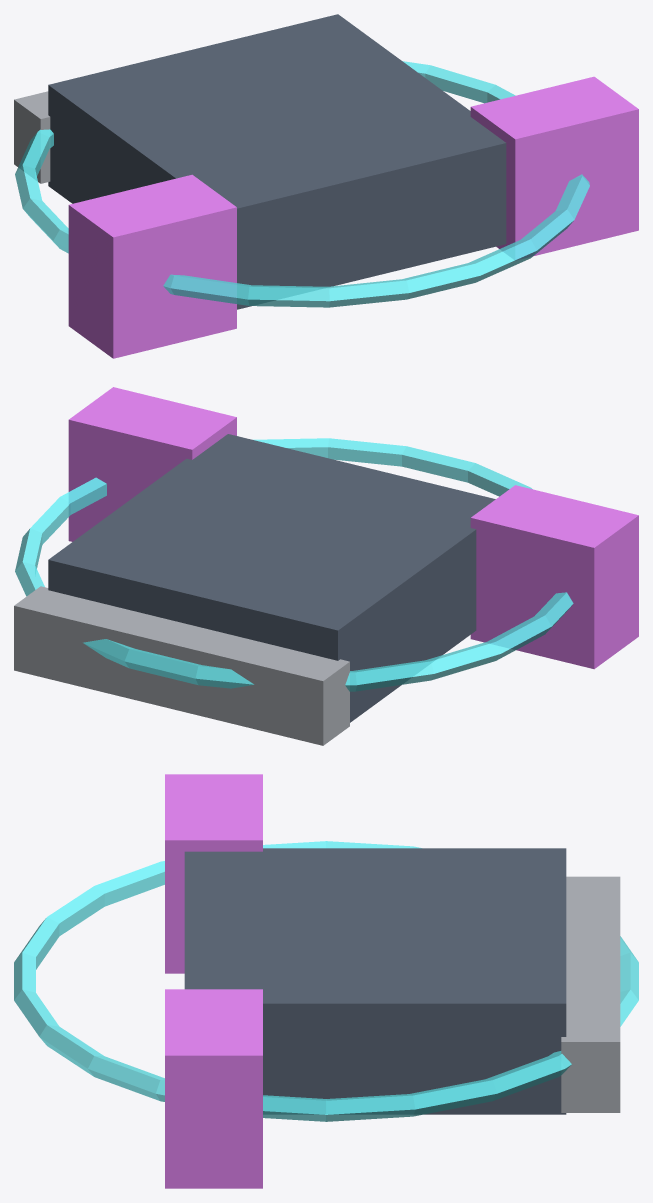
File: 04_magic_armor_upgrade.glb
The picture shows the model from 3 angles, top to bottom: view 1: azimuth 30°, elevation 25°; view 2: azimuth 150°, elevation 25°; view 3: azimuth 270°, elevation 25°; orthographic projection. The views are drawn at different scales.
Visible parts, largest first — view 1: chest_plate, pauldron_l, pauldron_r, warding_aura, waist_guard; view 2: chest_plate, waist_guard, pauldron_l, warding_aura, pauldron_r; view 3: chest_plate, pauldron_r, warding_aura, waist_guard, pauldron_l.
Part boxes in pixels (x1=…): chest_plate: x1=48, y1=14, x2=506, y2=309; pauldron_l: x1=68, y1=174, x2=236, y2=358; pauldron_r: x1=470, y1=76, x2=638, y2=259; warding_aura: x1=15, y1=61, x2=589, y2=307; waist_guard: x1=14, y1=91, x2=50, y2=183; chest_plate: x1=48, y1=434, x2=495, y2=722; waist_guard: x1=14, y1=586, x2=349, y2=745; pauldron_l: x1=470, y1=485, x2=638, y2=669; warding_aura: x1=15, y1=438, x2=573, y2=691; pauldron_r: x1=68, y1=387, x2=236, y2=541; chest_plate: x1=184, y1=848, x2=566, y2=1114; pauldron_r: x1=165, y1=989, x2=262, y2=1188; warding_aura: x1=14, y1=841, x2=638, y2=1121; waist_guard: x1=561, y1=876, x2=620, y2=1112; pauldron_l: x1=165, y1=774, x2=262, y2=973.
Bounding box in the file's own units: 1.36 × 0.38 × 1.28.
